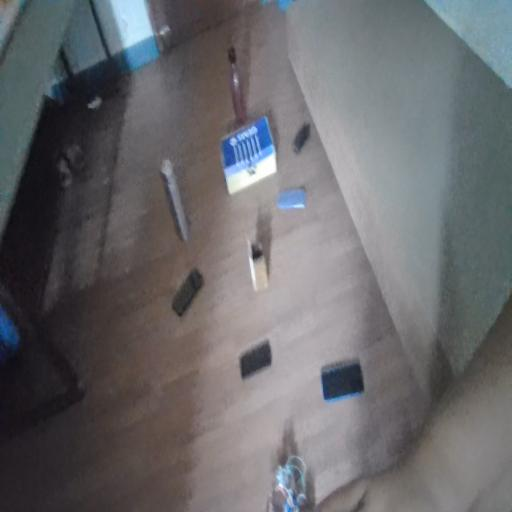Bottle: (223, 39, 246, 117)
